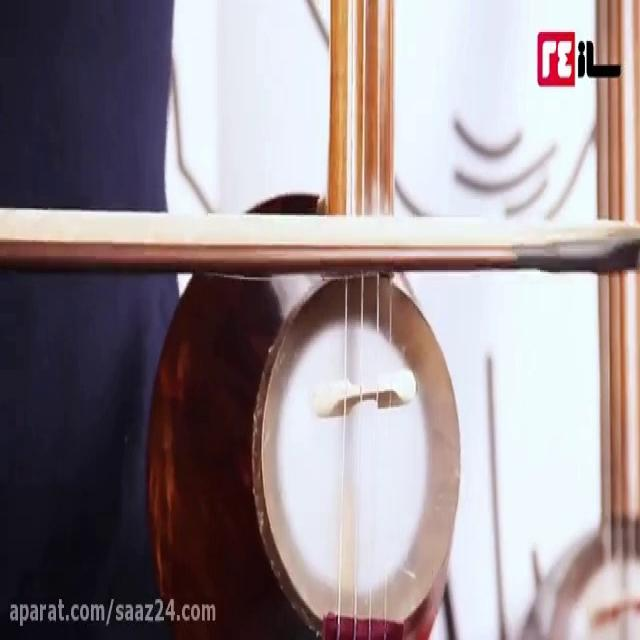Kamanche: (133, 4, 469, 638)
